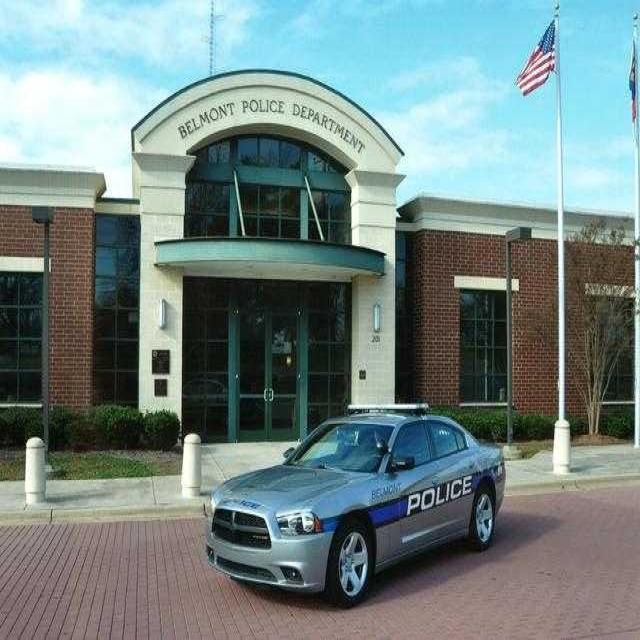firetruck: (199, 400, 522, 608)
